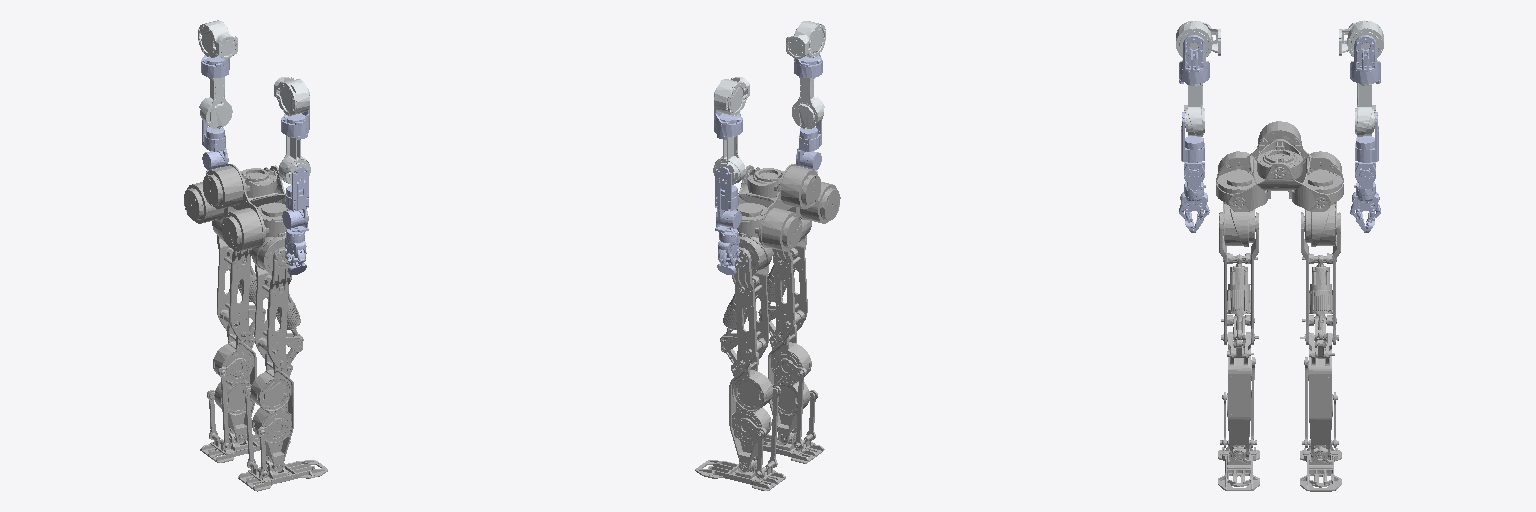
--- Render facts (derived) ---
3 views of the same robot in one strip: view 1: azimuth 30°, elevation 25°; view 2: azimuth 150°, elevation 25°; view 3: azimuth 270°, elevation 25° (orthographic).
Model jingchu01 with 27 links and 26 joints (12 revolute, 14 fixed), rooted at base_link, posed all joints at 0.
Links seen in each view (by area): view 1: base_link, right_knee_pitch, right_hip_pitch, left_knee_pitch, left_hip_pitch, right_ankle_roll, left_shoulder_pitch, left_shoulder_yaw, right_shoulder_pitch, right_wrist_pitch, waist_roll, left_ankle_roll (+7 smaller); view 2: base_link, left_knee_pitch, left_hip_pitch, right_knee_pitch, right_hip_pitch, left_ankle_roll, right_shoulder_pitch, right_shoulder_yaw, left_shoulder_pitch, left_wrist_pitch, right_ankle_roll, waist_roll (+7 smaller); view 3: base_link, right_hip_pitch, left_hip_pitch, right_knee_pitch, left_knee_pitch, left_ankle_roll, right_ankle_roll, waist_roll, right_wrist_pitch, left_wrist_pitch, left_shoulder_roll, right_shoulder_roll (+10 smaller).
Link boxes in pixels (<box>): base_link: <box>184,164,285,251</box>; right_knee_pitch: <box>243,351,293,477</box>; right_hip_pitch: <box>254,247,303,368</box>; left_knee_pitch: <box>207,324,256,449</box>; left_hip_pitch: <box>217,235,265,340</box>; right_ankle_roll: <box>238,460,327,491</box>; left_shoulder_pitch: <box>198,20,237,58</box>; left_shoulder_yaw: <box>199,77,232,128</box>; right_shoulder_pitch: <box>274,77,309,115</box>; right_wrist_pitch: <box>285,224,308,274</box>; waist_roll: <box>240,167,277,197</box>; left_ankle_roll: <box>200,432,290,462</box>; base_link: <box>738,164,840,251</box>; left_knee_pitch: <box>729,352,780,477</box>; left_hip_pitch: <box>720,247,768,368</box>; right_knee_pitch: <box>768,324,817,449</box>; right_hip_pitch: <box>758,235,807,340</box>; left_ankle_roll: <box>695,460,785,490</box>; right_shoulder_pitch: <box>786,21,825,58</box>; right_shoulder_yaw: <box>792,77,824,128</box>; left_shoulder_pitch: <box>714,77,749,115</box>; left_wrist_pitch: <box>715,224,739,274</box>; right_ankle_roll: <box>763,433,824,463</box>; waist_roll: <box>746,167,783,197</box>; base_link: <box>1216,121,1343,211</box>; right_hip_pitch: <box>1219,212,1258,357</box>; left_hip_pitch: <box>1300,212,1340,358</box>; right_knee_pitch: <box>1220,332,1256,456</box>; left_knee_pitch: <box>1302,332,1338,457</box>; left_ankle_roll: <box>1300,440,1341,491</box>; right_ankle_roll: <box>1218,440,1259,490</box>; waist_roll: <box>1257,139,1302,178</box>; right_wrist_pitch: <box>1179,170,1209,232</box>; left_wrist_pitch: <box>1350,170,1380,232</box>; left_shoulder_roll: <box>1350,35,1380,83</box>; right_shoulder_roll: <box>1179,35,1209,83</box>.
Bounding box of the posed robot: 0.3317 × 0.5974 × 1.4 m (x, y, z).
26 mesh visuals loaded from 27 distinct referenced files (26 binary STL); not drawn: 1 (reference not matched to a file when rendering).

robot.urdf — jingchu01:
<?xml version="1.0" encoding="utf-8"?>
<!-- This URDF was automatically created by SolidWorks to URDF Exporter! Originally created by Stephen Brawner ([email redacted]) 
     Commit Version: 1.6.0-4-g7f85cfe  Build Version: 1.6.7995.38578
     For more information, please see http://wiki.ros.org/sw_urdf_exporter -->
<robot
  name="jingchu01">
  <mujoco>
    <compiler meshdir="meshes/" balanceinertia="true" discardvisual="false"/>
  </mujoco>
  <link
    name="base_link">
    <inertial>
      <origin
        xyz="-0.0984969715325963 -2.9576188750624E-08 0.0140230360249803"
        rpy="0 0 0" />
      <mass
        value="7.88191586412788" />
      <inertia
        ixx="0.0194788489379514"
        ixy="-4.02416490936158E-09"
        ixz="-3.34829415460894E-06"
        iyy="0.0116319004122176"
        iyz="2.55580944381577E-10"
        izz="0.0156518074992374" />
    </inertial>
    <visual>
      <origin
        xyz="0 0 0"
        rpy="0 0 0" />
      <geometry>
        <mesh
          filename="./meshes/Robotbase.STL" />
      </geometry>
      <material
        name="">
        <color
          rgba="0.752941176470588 0.752941176470588 0.752941176470588 1" />
      </material>
    </visual>
    <!-- <collision>
      <origin
        xyz="0 0 0"
        rpy="0 0 0" />
      <geometry>
        <mesh
          filename="./meshes/Robotbase.STL" />
      </geometry>
    </collision> -->
  </link>
  <link
    name="waist_roll">
    <inertial>
      <origin
        xyz="0.0712014337202185 -1.45146336062042E-07 -0.0107254268410619"
        rpy="0 0 0" />
      <mass
        value="1.95282474899867" />
      <inertia
        ixx="0.00218526351876085"
        ixy="-4.4469211662733E-07"
        ixz="9.46871303766506E-06"
        iyy="0.00244407618829209"
        iyz="-6.45814658239216E-10"
        izz="0.00379853244537377" />
    </inertial>
    <visual>
      <origin
        xyz="0 0 0"
        rpy="0 0 0" />
      <geometry>
        <mesh
          filename="./meshes/waist_roll.STL" />
      </geometry>
      <material
        name="">
        <color
          rgba="0.752941176470588 0.752941176470588 0.752941176470588 1" />
      </material>
    </visual>
    <collision>
      <origin
        xyz="0 0 0"
        rpy="0 0 0" />
      <geometry>
        <mesh
          filename="./meshes/waist_roll.STL" />
      </geometry>
    </collision>
  </link>
  <joint
    name="waist_roll"
    type="fixed">
    <origin
      xyz="-0.07425 0 0.078"
      rpy="0 0 0" />
    <parent
      link="base_link" />
    <child
      link="waist_roll" />
    <axis
      xyz="1 0 0" />
    <limit
      lower="-0.2617"
      upper="0.2617"
      effort="0"
      velocity="0" />
  </joint>
  <link
    name="waist_yaw">
    <inertial>
      <origin
        xyz="0.00718128420277379 -0.00322497286969962 0.294197512955324"
        rpy="0 0 0" />
      <mass
        value="9.7945599041551" />
      <inertia
        ixx="0.0522872016315136"
        ixy="-1.35444239247012E-05"
        ixz="-0.000360835103735854"
        iyy="0.0374676610303776"
        iyz="-1.69963653418724E-05"
        izz="0.0344260546372227" />
    </inertial>
    <visual>
      <origin
        xyz="0 0 0"
        rpy="0 0 0" />
      <geometry>
        <mesh
          filename="./meshes/waist_yaw.STL" />
      </geometry>
      <material
        name="">
        <color
          rgba="0.752941176470588 0.752941176470588 0.752941176470588 1" />
      </material>
    </visual>
    <collision>
      <origin
        xyz="0 0 0"
        rpy="0 0 0" />
      <geometry>
        <mesh
          filename="./meshes/waist_yaw.STL" />
      </geometry>
    </collision>
  </link>
  <joint
    name="waist_yaw"
    type="fixed">
    <origin
      xyz="0.076 0 0.021"
      rpy="0 0 0" />
    <parent
      link="waist_roll" />
    <child
      link="waist_yaw" />
    <axis
      xyz="0 0 1" />
    <limit
      lower="-0.7853"
      upper="0.7853"
      effort="0"
      velocity="0" />
  </joint>
  <link
    name="right_shoulder_pitch">
    <inertial>
      <origin
        xyz="-0.00369025207869914 -6.78649189696512E-05 0.120120004930154"
        rpy="0 0 0" />
      <mass
        value="1.01928615599063" />
      <inertia
        ixx="0.00148442521595698"
        ixy="1.65913414959557E-10"
        ixz="-6.87910588235173E-05"
        iyy="0.00104142953909279"
        iyz="-1.06369827449295E-05"
        izz="0.000927756963869135" />
    </inertial>
    <visual>
      <origin
        xyz="0 0 0"
        rpy="0 0 0" />
      <geometry>
        <mesh
          filename="./meshes/right_shoulder_pitch.STL" />
      </geometry>
      <material
        name="">
        <color
          rgba="0.898039215686275 0.917647058823529 0.929411764705882 1" />
      </material>
    </visual>
    <collision>
      <origin
        xyz="0 0 0"
        rpy="0 0 0" />
      <geometry>
        <mesh
          filename="./meshes/right_shoulder_pitch.STL" />
      </geometry>
    </collision>
  </link>
  <joint
    name="right_shoulder_pitch"
    type="fixed">
    <origin
      xyz="0 -0.118 0.359"
      rpy="1.5708 0 0" />
    <parent
      link="waist_yaw" />
    <child
      link="right_shoulder_pitch" />
    <axis
      xyz="0 0 1" />
    <limit
      lower="-1.0471"
      upper="3.1415"
      effort="0"
      velocity="0" />
  </joint>
  <link
    name="right_shoulder_roll">
    <inertial>
      <origin
        xyz="0.0825127696717173 0.000439737221782754 -0.00457449779979625"
        rpy="0 0 0" />
      <mass
        value="0.371905453278243" />
      <inertia
        ixx="0.000303334452335149"
        ixy="-9.4354446936186E-09"
        ixz="5.26913409672362E-06"
        iyy="0.000271169450258462"
        iyz="6.56089161430563E-10"
        izz="0.000295200907506654" />
    </inertial>
    <visual>
      <origin
        xyz="0 0 0"
        rpy="0 0 0" />
      <geometry>
        <mesh
          filename="./meshes/right_shoulder_roll.STL" />
      </geometry>
      <material
        name="">
        <color
          rgba="0.792156862745098 0.819607843137255 0.933333333333333 1" />
      </material>
    </visual>
    <collision>
      <origin
        xyz="0 0 0"
        rpy="0 0 0" />
      <geometry>
        <mesh
          filename="./meshes/right_shoulder_roll.STL" />
      </geometry>
    </collision>
  </link>
  <joint
    name="right_shoulder_roll"
    type="fixed">
    <origin
      xyz="0 0 0.128"
      rpy="1.5708 0 -1.5708" />
    <parent
      link="right_shoulder_pitch" />
    <child
      link="right_shoulder_roll" />
    <axis
      xyz="0 0 1" />
    <limit
      lower="-0.0872"
      upper="2.2689"
      effort="0"
      velocity="0" />
  </joint>
  <link
    name="right_shoulder_yaw">
    <inertial>
      <origin
        xyz="0.00461112841503625 -0.000237834588530952 0.133281247788491"
        rpy="0 0 0" />
      <mass
        value="0.524817587410355" />
      <inertia
        ixx="0.00088773648735725"
        ixy="-7.76275772301874E-09"
        ixz="3.80368656328553E-05"
        iyy="0.000765712293685122"
        iyz="-1.91318600318233E-07"
        izz="0.000338394376834781" />
    </inertial>
    <visual>
      <origin
        xyz="0 0 0"
        rpy="0 0 0" />
      <geometry>
        <mesh
          filename="./meshes/right_shoulder_yaw.STL" />
      </geometry>
      <material
        name="">
        <color
          rgba="0.898039215686275 0.917647058823529 0.929411764705882 1" />
      </material>
    </visual>
    <collision>
      <origin
        xyz="0 0 0"
        rpy="0 0 0" />
      <geometry>
        <mesh
          filename="./meshes/right_shoulder_yaw.STL" />
      </geometry>
    </collision>
  </link>
  <joint
    name="right_shoulder_yaw"
    type="fixed">
    <origin
      xyz="0.09125 0 0"
      rpy="-1.5708 0 -1.5708" />
    <parent
      link="right_shoulder_roll" />
    <child
      link="right_shoulder_yaw" />
    <axis
      xyz="0 0 1" />
    <limit
      lower="-2.0943"
      upper="2.0943"
      effort="0"
      velocity="0" />
  </joint>
  <link
    name="right_elbow_pitch">
    <inertial>
      <origin
        xyz="1.23425907018748E-05 0.0624745480221272 0.0126972705460356"
        rpy="0 0 0" />
      <mass
        value="0.360427198006159" />
      <inertia
        ixx="0.000312134960472167"
        ixy="6.90445652551968E-08"
        ixz="-2.10439420915812E-08"
        iyy="0.000169273273086857"
        iyz="1.39197506100245E-06"
        izz="0.000349589920509742" />
    </inertial>
    <visual>
      <origin
        xyz="0 0 0"
        rpy="0 0 0" />
      <geometry>
        <mesh
          filename="./meshes/right_elbow_pitch.STL" />
      </geometry>
      <material
        name="">
        <color
          rgba="0.792156862745098 0.819607843137255 0.933333333333333 1" />
      </material>
    </visual>
    <collision>
      <origin
        xyz="0 0 0"
        rpy="0 0 0" />
      <geometry>
        <mesh
          filename="./meshes/right_elbow_pitch.STL" />
      </geometry>
    </collision>
  </link>
  <joint
    name="right_elbow_pitch"
    type="fixed">
    <origin
      xyz="0 0 0.17223"
      rpy="1.5708 0 -1.5708" />
    <parent
      link="right_shoulder_yaw" />
    <child
      link="right_elbow_pitch" />
    <axis
      xyz="0 0 1" />
    <limit
      lower="0"
      upper="1.8325"
      effort="0"
      velocity="0" />
  </joint>
  <link
    name="right_elbow_yaw">
    <inertial>
      <origin
        xyz="-0.000811085697537822 6.34590451825678E-07 0.0561277674791029"
        rpy="0 0 0" />
      <mass
        value="0.161610535897621" />
      <inertia
        ixx="6.83098705797326E-05"
        ixy="3.15556212054079E-10"
        ixz="-2.90366207769531E-06"
        iyy="7.63080818313032E-05"
        iyz="6.74067897348818E-08"
        izz="7.58173073592417E-05" />
    </inertial>
    <visual>
      <origin
        xyz="0 0 0"
        rpy="0 0 0" />
      <geometry>
        <mesh
          filename="./meshes/right_elbow_yaw.STL" />
      </geometry>
      <material
        name="">
        <color
          rgba="0.792156862745098 0.819607843137255 0.933333333333333 1" />
      </material>
    </visual>
    <collision>
      <origin
        xyz="0 0 0"
        rpy="0 0 0" />
      <geometry>
        <mesh
          filename="./meshes/right_elbow_yaw.STL" />
      </geometry>
    </collision>
  </link>
  <joint
    name="right_elbow_yaw"
    type="fixed">
    <origin
      xyz="0 0.08725 0"
      rpy="-1.5708 0 0" />
    <parent
      link="right_elbow_pitch" />
    <child
      link="right_elbow_yaw" />
    <axis
      xyz="0 0 -1" />
    <limit
      lower="-2.0943"
      upper="2.0943"
      effort="0"
      velocity="0" />
  </joint>
  <link
    name="right_wrist_pitch">
    <inertial>
      <origin
        xyz="0.000478731716934494 0.0308404012135164 -0.00843681859257581"
        rpy="0 0 0" />
      <mass
        value="0.0450604333779806" />
      <inertia
        ixx="1.88692435666102E-05"
        ixy="-1.90662483898709E-07"
        ixz="-2.56488829952119E-08"
        iyy="2.68897028626312E-05"
        iyz="1.88051327312878E-06"
        izz="2.06361301057188E-05" />
    </inertial>
    <visual>
      <origin
        xyz="0 0 0"
        rpy="0 0 0" />
      <geometry>
        <mesh
          filename="./meshes/right_wrist_pitch.STL" />
      </geometry>
      <material
        name="">
        <color
          rgba="0.792156862745098 0.819607843137255 0.933333333333333 1" />
      </material>
    </visual>
    <collision>
      <origin
        xyz="0 0 0"
        rpy="0 0 0" />
      <geometry>
        <mesh
          filename="./meshes/right_wrist_pitch.STL" />
      </geometry>
    </collision>
  </link>
  <joint
    name="right_wrist_pitch"
    type="fixed">
    <origin
      xyz="0 0 0.07275"
      rpy="1.5708 0 1.5708" />
    <parent
      link="right_elbow_yaw" />
    <child
      link="right_wrist_pitch" />
    <axis
      xyz="0 0 1" />
    <limit
      lower="-0.7853"
      upper="0.7853"
      effort="0"
      velocity="0" />
  </joint>
  <link
    name="left_shoulder_pitch">
    <inertial>
      <origin
        xyz="-0.00369025207868222 4.77978162738979E-05 -0.120107914107829"
        rpy="0 0 0" />
      <mass
        value="1.01928615599063" />
      <inertia
        ixx="0.00148442521595697"
        ixy="-1.65200468652265E-10"
        ixz="6.87910583939422E-05"
        iyy="0.00102301678503761"
        iyz="-9.04207997151844E-07"
        izz="0.000946169717924307" />
    </inertial>
    <visual>
      <origin
        xyz="0 0 0"
        rpy="0 0 0" />
      <geometry>
        <mesh
          filename="./meshes/left_shoulder_pitch.STL" />
      </geometry>
      <material
        name="">
        <color
          rgba="0.898039215686275 0.917647058823529 0.929411764705882 1" />
      </material>
    </visual>
    <collision>
      <origin
        xyz="0 0 0"
        rpy="0 0 0" />
      <geometry>
        <mesh
          filename="./meshes/left_shoulder_pitch.STL" />
      </geometry>
    </collision>
  </link>
  <joint
    name="left_shoulder_pitch"
    type="fixed">
    <origin
      xyz="0 0.118 0.359"
      rpy="1.5708 0 0" />
    <parent
      link="waist_yaw" />
    <child
      link="left_shoulder_pitch" />
    <axis
      xyz="0 0 1" />
    <limit
      lower="-1.0471"
      upper="3.1415"
      effort="0"
      velocity="0" />
  </joint>
  <link
    name="left_shoulder_roll">
    <inertial>
      <origin
        xyz="0.082505515385362 0.000432887271886839 0.00457532120404451"
        rpy="0 0 0" />
      <mass
        value="0.371905453278243" />
      <inertia
        ixx="0.000303334452335149"
        ixy="-9.4354446936186E-09"
        ixz="5.26913409672362E-06"
        iyy="0.000271169450258462"
        iyz="6.56089161430563E-10"
        izz="0.000295200907506654" />
    </inertial>
    <visual>
      <origin
        xyz="0 0 0"
        rpy="0 0 0" />
      <geometry>
        <mesh
          filename="./meshes/left_shoulder_roll.STL" />
      </geometry>
      <material
        name="">
        <color
          rgba="0.792156862745098 0.819607843137255 0.933333333333333 1" />
      </material>
    </visual>
    <collision>
      <origin
        xyz="0 0 0"
        rpy="0 0 0" />
      <geometry>
        <mesh
          filename="./meshes/left_shoulder_roll.STL" />
      </geometry>
    </collision>
  </link>
  <joint
    name="left_shoulder_roll"
    type="fixed">
    <origin
      xyz="0 0 -0.128"
      rpy="-1.5708 0 -1.5708" />
    <parent
      link="left_shoulder_pitch" />
    <child
      link="left_shoulder_roll" />
    <axis
      xyz="0 0 1" />
    <limit
      lower="-0.087266"
      upper="2.3562"
      effort="0"
      velocity="0" />
  </joint>
  <link
    name="left_shoulder_yaw">
    <inertial>
      <origin
        xyz="-0.00461112841500924 0.00023729156391851 -0.133281247788492"
        rpy="0 0 0" />
      <mass
        value="0.524817587410352" />
      <inertia
        ixx="0.000887736487357246"
        ixy="-1.08468350171437E-08"
        ixz="3.80368656328551E-05"
        iyy="0.000765712293685123"
        iyz="-1.98140879438677E-07"
        izz="0.000338394376834773" />
    </inertial>
    <visual>
      <origin
        xyz="0 0 0"
        rpy="0 0 0" />
      <geometry>
        <mesh
          filename="./meshes/left_shoulder_yaw.STL" />
      </geometry>
      <material
        name="">
        <color
          rgba="0.898039215686275 0.917647058823529 0.929411764705882 1" />
      </material>
    </visual>
    <collision>
      <origin
        xyz="0 0 0"
        rpy="0 0 0" />
      <geometry>
        <mesh
          filename="./meshes/left_shoulder_yaw.STL" />
      </geometry>
    </collision>
  </link>
  <joint
    name="left_shoulder_yaw"
    type="fixed">
    <origin
      xyz="0.09125 0 0"
      rpy="-1.5708 0 1.5708" />
    <parent
      link="left_shoulder_roll" />
    <child
      link="left_shoulder_yaw" />
    <axis
      xyz="0 0 1" />
    <limit
      lower="-2.0943"
      upper="2.0943"
      effort="0"
      velocity="0" />
  </joint>
  <link
    name="left_elbow_pitch">
    <inertial>
      <origin
        xyz="1.23425687506701E-05 0.0759501782289966 -0.0126972701922965"
        rpy="0 0 0" />
      <mass
        value="0.360427202090469" />
      <inertia
        ixx="0.0003121349629981"
        ixy="6.90442699770628E-08"
        ixz="2.1043919679011E-08"
        iyy="0.00016927327587052"
        iyz="-1.39197577008188E-06"
        izz="0.000349589921196914" />
    </inertial>
    <visual>
      <origin
        xyz="0 0 0"
        rpy="0 0 0" />
      <geometry>
        <mesh
          filename="./meshes/left_elbow_pitch.STL" />
      </geometry>
      <material
        name="">
        <color
          rgba="0.792156862745098 0.819607843137255 0.933333333333333 1" />
      </material>
    </visual>
    <collision>
      <origin
        xyz="0 0 0"
        rpy="0 0 0" />
      <geometry>
        <mesh
          filename="./meshes/left_elbow_pitch.STL" />
      </geometry>
    </collision>
  </link>
  <joint
    name="left_elbow_pitch"
    type="fixed">
    <origin
      xyz="0 0 -0.15875"
      rpy="-1.5708 0 1.5708" />
    <parent
      link="left_shoulder_yaw" />
    <child
      link="left_elbow_pitch" />
    <axis
      xyz="0 0 1" />
    <limit
      lower="0"
      upper="1.8325"
      effort="0"
      velocity="0" />
  </joint>
  <link
    name="left_elbow_yaw">
    <inertial>
      <origin
        xyz="0.000811085697531105 6.34590452575079E-07 -0.0696033974783333"
        rpy="0 0 0" />
      <mass
        value="0.16161053589762" />
      <inertia
        ixx="6.83098705797325E-05"
        ixy="-3.15556212097006E-10"
        ixz="-2.90366207769528E-06"
        iyy="7.62733148981024E-05"
        iyz="-5.85765644490599E-08"
        izz="7.58520742924423E-05" />
    </inertial>
    <visual>
      <origin
        xyz="0 0 0"
        rpy="0 0 0" />
      <geometry>
        <mesh
          filename="./meshes/left_elbow_yaw.STL" />
      </geometry>
      <material
        name="">
        <color
          rgba="0.792156862745098 0.819607843137255 0.933333333333333 1" />
      </material>
    </visual>
    <collision>
      <origin
        xyz="0 0 0"
        rpy="0 0 0" />
      <geometry>
        <mesh
          filename="./meshes/left_elbow_yaw.STL" />
      </geometry>
    </collision>
  </link>
  <joint
    name="left_elbow_yaw"
    type="fixed">
    <origin
      xyz="0 0.08725 0"
      rpy="-1.5708 0 3.1416" />
    <parent
      link="left_elbow_pitch" />
    <child
      link="left_elbow_yaw" />
    <axis
      xyz="0 0 -1" />
    <limit
      lower="-2.0943"
      upper="2.0943"
      effort="0"
      velocity="0" />
  </joint>
  <link
    name="left_wrist_pitch">
    <inertial>
      <origin
        xyz="-0.000478692795686964 -0.0443160309930142 0.0093651458808677"
        rpy="0 0 0" />
      <mass
        value="0.0450604313696934" />
      <inertia
        ixx="1.88692432103982E-05"
        ixy="-1.90662471507047E-07"
        ixz="2.5648318268331E-08"
        iyy="2.68897015884294E-05"
        iyz="2.19926683598632E-06"
        izz="2.06361291243468E-05" />
    </inertial>
    <visual>
      <origin
        xyz="0 0 0"
        rpy="0 0 0" />
      <geometry>
        <mesh
          filename="./meshes/left_wrist_pitch.STL" />
      </geometry>
      <material
        name="">
        <color
          rgba="0.792156862745098 0.819607843137255 0.933333333333333 1" />
      </material>
    </visual>
    <collision>
      <origin
        xyz="0 0 0"
        rpy="0 0 0" />
      <geometry>
        <mesh
          filename="./meshes/left_wrist_pitch.STL" />
      </geometry>
    </collision>
  </link>
  <joint
    name="left_wrist_pitch"
    type="fixed">
    <origin
      xyz="0 0 -0.07275"
      rpy="1.5708 0 1.5708" />
    <parent
      link="left_elbow_yaw" />
    <child
      link="left_wrist_pitch" />
    <axis
      xyz="0 0 1" />
    <limit
      lower="-0.7853"
      upper="0.7853"
      effort="0"
      velocity="0" />
  </joint>
  <link
    name="right_hip_roll">
    <inertial>
      <origin
        xyz="0.0712014337220351 1.45148064456535E-07 0.0107254268413401"
        rpy="0 0 0" />
      <mass
        value="1.95282474889206" />
      <inertia
        ixx="0.00216541687872278"
        ixy="6.33916012368307E-09"
        ixz="-9.46871301935334E-06"
        iyy="0.00246392282814418"
        iyz="-6.45789069561761E-10"
        izz="0.00379853244519851" />
    </inertial>
    <visual>
      <origin
        xyz="0 0 0"
        rpy="0 0 0" />
      <geometry>
        <mesh
          filename="./meshes/right_hip_roll.STL" />
      </geometry>
      <material
        name="">
        <color
          rgba="0.752941176470588 0.752941176470588 0.752941176470588 1" />
      </material>
    </visual>
    <!-- <collision>
      <origin
        xyz="0 0 0"
        rpy="0 0 0" />
      <geometry>
        <mesh
          filename="./meshes/right_hip_roll.STL" />
      </geometry>
    </collision> -->
  </link>
  <joint
    name="right_hip_roll"
    type="revolute">
    <origin
      xyz="-0.07425 -0.117 -0.018"
      rpy="0 0 0" />
    <parent
      link="base_link" />
    <child
      link="right_hip_roll" />
    <axis
      xyz="-1 0 0" />
    <limit
      lower="-0.1396"
      upper="0.5236"
      effort="163.000"
      velocity="2.094" />
  </joint>
  <link
    name="right_hip_yaw">
    <inertial>
      <origin
        xyz="2.75481248193377E-05 0.000199330036069326 -0.0731443197699774"
        rpy="0 0 0" />
      <mass
        value="2.83658349791389" />
      <inertia
        ixx="0.00409588740822197"
        ixy="3.89732799375747E-09"
        ixz="-2.53675834610563E-06"
        iyy="0.00536156764679461"
        iyz="-0.000177233604694398"
        izz="0.00400961240774363" />
    </inertial>
    <visual>
      <origin
        xyz="0 0 0"
        rpy="0 0 0" />
      <geometry>
        <mesh
          filename="./meshes/right_hip_yaw.STL" />
      </geometry>
      <material
        name="">
        <color
          rgba="0.752941176470588 0.752941176470588 0.752941176470588 1" />
      </material>
    </visual>
    <!-- <collision>
      <origin
        xyz="0 0 0"
        rpy="0 0 0" />
      <geometry>
        <mesh
          filename="./meshes/right_hip_yaw.STL" />
      </geometry>
    </collision> -->
  </link>
  <joint
    name="right_hip_yaw"
    type="revolute">
    <origin
      xyz="0.076 0 -0.021"
      rpy="0 0 0" />
    <parent
      link="right_hip_roll" />
    <child
      link="right_hip_yaw" />
    <axis
      xyz="0 0 -1" />
    <limit
      lower="-0.5236"
      upper="0.5236"
      effort="130.000"
      velocity="2.618" />
  </joint>
  <link
    name="right_hip_pitch">
    <inertial>
      <origin
        xyz="0.00278195376035333 -0.00118403417056541 -0.212138172821656"
        rpy="0 0 0" />
      <mass
        value="3.42" />
      <inertia
        ixx="0.0154641811614602"
        ixy="-2.39045191992138E-06"
        ixz="0.000439784914957712"
        iyy="0.0159626503674042"
        iyz="-5.07682984790193E-05"
        izz="0.00117120911610082" />
    </inertial>
    <visual>
      <origin
        xyz="0 0 0"
        rpy="0 0 0" />
      <geometry>
        <mesh
          filename="./meshes/right_hip_pitch.STL" />
      </geometry>
      <material
        name="">
        <color
          rgba="0.752941176470588 0.752941176470588 0.752941176470588 1" />
      </material>
    </visual>
    <!-- <collision>
      <origin
        xyz="0 0 0"
        rpy="0 0 0" />
      <geometry>
        <mesh
          filename="./meshes/right_hip_pitch.STL" />
      </geometry>
    </collision> -->
  </link>
  <joint
    name="right_hip_pitch"
    type="revolute">
    <origin
      xyz="0 0 -0.08"
      rpy="0 0 0" />
    <parent
      link="right_hip_yaw" />
    <child
      link="right_hip_pitch" />
    <axis
      xyz="0 1 0" />
    <limit
      lower="-1.2566"
      upper="0.7853"
      effort="484.23"
      velocity="3.926" />
  </joint>
  <link
    name="right_knee_pitch">
    <inertial>
      <origin
        xyz="-0.009706200766515 0.000919491155764007 -0.171876310013947"
        rpy="0 0 0" />
      <mass
        value="3.56253962428973" />
      <inertia
        ixx="0.017593251099724"
        ixy="3.37744035385105E-06"
        ixz="0.000385307008319767"
        iyy="0.0193804549962571"
        iyz="-6.45493181240959E-05"
        izz="0.00338833284159735" />
    </inertial>
    <visual>
      <origin
        xyz="0 0 0"
        rpy="0 0 0" />
      <geometry>
        <mesh
          filename="./meshes/right_knee_pitch.STL" />
      </geometry>
      <material
        name="">
        <color
          rgba="0.752941176470588 0.752941176470588 0.752941176470588 1" />
      </material>
    </visual>
    <!-- <collision>
      <origin
        xyz="0 0 0"
        rpy="0 0 0" />
      <geometry>
        <mesh
          filename="./meshes/right_knee_pitch.STL" />
      </geometry>
    </collision> -->
  </link>
  <joint
    name="right_knee_pitch"
    type="revolute">
    <origin
      xyz="0 0 -0.36"
      rpy="0 0 0" />
    <parent
      link="right_hip_pitch" />
    <child
      link="right_knee_pitch" />
    <axis
      xyz="0 1 0" />
    <limit
      lower="-0.0872"
      upper="1.7453"
      effort="306.000"
      velocity="2.770" />
  </joint>
  <link
    name="right_ankle_pitch">
    <inertial>
      <origin
        xyz="-4.42025816866642E-05 3.73697826849817E-09 1.56561735425997E-05"
        rpy="0 0 0" />
      <mass
        value="0.117245957669761" />
      <inertia
        ixx="9.36458797841644E-06"
        ixy="1.74312437397883E-12"
        ixz="-1.04884308878842E-08"
        iyy="9.34734845908157E-06"
        iyz="-1.87046785930341E-12"
        izz="1.20842260920027E-05" />
    </inertial>
    <visual>
      <origin
        xyz="0 0 0"
        rpy="0 0 0" />
      <geometry>
        <mesh
          filename="./meshes/right_ankle_pitch.STL" />
      </geometry>
      <material
        name="">
        <color
          rgba="0.752941176470588 0.752941176470588 0.752941176470588 1" />
      </material>
    </visual>
    <!-- <collision>
      <origin
        xyz="0 0 0"
        rpy="0 0 0" />
      <geometry>
        <mesh
          filename="./meshes/right_ankle_pitch.STL" />
      </geometry>
    </collision> -->
  </link>
  <joint
    name="right_ankle_pitch"
    type="revolute">
    <origin
      xyz="0 0 -0.36"
      rpy="0 0 0" />
    <parent
      link="right_knee_pitch" />
    <child
      link="right_ankle_pitch" />
    <axis
      xyz="0 1 0" />
    <limit
      lower="-0.7853"
      upper="0.5236"
      effort="509.163"
      velocity="3.124" />
  </joint>
  <link
    name="right_ankle_roll">
    <inertial>
      <origin
        xyz="0.0134435402512188 1.54639419934488E-06 -0.0362581446313182"
        rpy="0 0 0" />
      <mass
        value="0.681463007782071" />
      <inertia
        ixx="0.000606187263297722"
        ixy="6.84372557251069E-08"
        ixz="-1.44132496017251E-05"
        iyy="0.00287092092871027"
        iyz="-6.16904091807537E-10"
        izz="0.0033986962851404" />
    </inertial>
    <visual>
      <origin
        xyz="0 0 0"
        rpy="0 0 0" />
      <geometry>
        <mesh
          filename="./meshes/right_ankle_roll.STL" />
      </geometry>
      <material
        name="">
        <color
          rgba="0.752941176470588 0.752941176470588 0.752941176470588 1" />
      </material>
    </visual>
    <collision>
      <origin
        xyz="0 0 0"
        rpy="0 0 0" />
      <geometry>
        <mesh
          filename="./meshes/right_ankle_roll.STL" />
      </geometry>
    </collision>
  </link>
  <joint
    name="right_ankle_roll"
    type="revolute">
    <origin
      xyz="0 0 0"
      rpy="0 0 0" />
    <parent
      link="right_ankle_pitch" />
    <child
      link="right_ankle_roll" />
    <axis
      xyz="-1 0 0" />
    <limit
      lower="-0.2617"
      upper="0.2617"
      effort="314.930"
      velocity="4.160" />
  </joint>
  <link
    name="left_hip_roll">
    <inertial>
      <origin
        xyz="0.0712014337220351 1.45148064414902E-07 0.01072542684134"
        rpy="0 0 0" />
      <mass
        value="1.95282474889206" />
      <inertia
        ixx="0.00216541687872278"
        ixy="6.33916012666114E-09"
        ixz="-9.46871301928296E-06"
        iyy="0.00246392282814456"
        iyz="-6.45789068981143E-10"
        izz="0.00379853244519889" />
    </inertial>
    <visual>
      <origin
        xyz="0 0 0"
        rpy="0 0 0" />
      <geometry>
        <mesh
          filename="./meshes/left_hip_roll.STL" />
      </geometry>
      <material
        name="">
        <color
          rgba="0.752941176470588 0.752941176470588 0.752941176470588 1" />
      </material>
    </visual>
    <!-- <collision>
      <origin
        xyz="0 0 0"
        rpy="0 0 0" />
      <geometry>
        <mesh
          filename="./meshes/left_hip_roll.STL" />
      </geometry>
    </collision> -->
  </link>
  <joint
    name="left_hip_roll"
    type="revolute">
    <origin
      xyz="-0.07425 0.117 -0.018"
      rpy="0 0 0" />
    <parent
      link="base_link" />
    <child
      link="left_hip_roll" />
    <axis
      xyz="1 0 0" />
    <limit
      lower="-0.1396"
      upper="0.5236"
      effort="163.000"
      velocity="2.094" />
  </joint>
  <link
    name="left_hip_yaw">
    <inertial>
      <origin
        xyz="-2.44409013837599E-05 -0.00019933004116536 -0.0731443197699775"
        rpy="0 0 0" />
      <mass
        value="2.83658349791389" />
      <inertia
        ixx="0.00409588740822197"
        ixy="3.89732799311734E-09"
        ixz="2.49615107882358E-06"
        iyy="0.0053615676467946"
        iyz="0.000177233604760547"
        izz="0.00400961240774363" />
    </inertial>
    <visual>
      <origin
        xyz="0 0 0"
        rpy="0 0 0" />
      <geometry>
        <mesh
          filename="./meshes/left_hip_yaw.STL" />
      </geometry>
      <material
        name="">
        <color
          rgba="0.752941176470588 0.752941176470588 0.752941176470588 1" />
      </material>
    </visual>
    <!-- <collision>
      <origin
        xyz="0 0 0"
        rpy="0 0 0" />
      <geometry>
        <mesh
          filename="./meshes/left_hip_yaw.STL" />
      </geometry>
    </collision> -->
  </link>
  <joint
    name="left_hip_yaw"
    type="revolute">
    <origin
      xyz="0.076 0 -0.021"
      rpy="0 0 0" />
    <parent
      link="left_hip_roll" />
    <child
      link="left_hip_yaw" />
    <axis
      xyz="0 0 1" />
    <limit
      lower="-0.5236"
      upper="0.5236"
      effort="130.000"
      velocity="2.618" />
  </joint>
  <link
    name="left_hip_pitch">
    <inertial>
      <origin
        xyz="0.00381053628569823 0.00136240842842653 -0.212150920502361"
        rpy="0 0 0" />
      <mass
        value="3.42" />
      <inertia
        ixx="0.0154682947864348"
        ixy="2.14349855772827E-06"
        ixz="0.000369633081504545"
        iyy="0.0159626504014808"
        iyz="5.07795834441317E-05"
        izz="0.00116709552390611" />
    </inertial>
    <visual>
      <origin
        xyz="0 0 0"
        rpy="0 0 0" />
      <geometry>
        <mesh
          filename="./meshes/left_hip_pitch.STL" />
      </geometry>
      <material
        name="">
        <color
          rgba="0.752941176470588 0.752941176470588 0.752941176470588 1" />
      </material>
    </visual>
    <!-- <collision>
      <origin
        xyz="0 0 0"
        rpy="0 0 0" />
      <geometry>
        <mesh
          filename="./meshes/left_hip_pitch.STL" />
      </geometry>
    </collision> -->
  </link>
  <joint
    name="left_hip_pitch"
    type="revolute">
    <origin
      xyz="0 0 -0.08"
      rpy="0 0 0" />
    <parent
      link="left_hip_yaw" />
    <child
      link="left_hip_pitch" />
    <axis
      xyz="0 1 0" />
    <limit
      lower="-1.2566"
      upper="0.7853"
      effort="484.23"
      velocity="3.926" />
  </joint>
  <link
    name="left_knee_pitch">
    <inertial>
      <origin
        xyz="-0.00970618878840451 -0.00119292525006093 -0.171875683665013"
        rpy="0 0 0" />
      <mass
        value="3.56254067216515" />
      <inertia
        ixx="0.0175932579943534"
        ixy="-4.55897849310627E-06"
        ixz="0.000385283696875789"
        iyy="0.0193808141083225"
        iyz="8.71812788605299E-05"
        izz="0.00338798140463537" />
    </inertial>
    <visual>
      <origin
        xyz="0 0 0"
        rpy="0 0 0" />
      <geometry>
        <mesh
          filename="./meshes/left_knee_pitch.STL" />
      </geometry>
      <material
        name="">
        <color
          rgba="0.752941176470588 0.752941176470588 0.752941176470588 1" />
      </material>
    </visual>
    <!-- <collision>
      <origin
        xyz="0 0 0"
        rpy="0 0 0" />
      <geometry>
        <mesh
          filename="./meshes/left_knee_pitch.STL" />
      </geometry>
    </collision> -->
  </link>
  <joint
    name="left_knee_pitch"
    type="revolute">
    <origin
      xyz="0.0017547 0 -0.36"
      rpy="0 0 0" />
    <parent
      link="left_hip_pitch" />
    <child
      link="left_knee_pitch" />
    <axis
      xyz="0 1 0" />
    <limit
      lower="-0.0872"
      upper="1.7453"
      effort="306.000"
      velocity="2.770" />
  </joint>
  <link
    name="left_ankle_pitch">
    <inertial>
      <origin
        xyz="-4.4202632627513E-05 3.73697818523144E-09 1.56561732943539E-05"
        rpy="0 0 0" />
      <mass
        value="0.117245957669761" />
      <inertia
        ixx="9.36458797841644E-06"
        ixy="1.74312437310455E-12"
        ixz="-1.04884308878835E-08"
        iyy="9.34734845908156E-06"
        iyz="-1.87046786641449E-12"
        izz="1.20842260920027E-05" />
    </inertial>
    <visual>
      <origin
        xyz="0 0 0"
        rpy="0 0 0" />
      <geometry>
        <mesh
          filename="./meshes/left_ankle_pitch.STL" />
      </geometry>
      <material
        name="">
        <color
          rgba="0.752941176470588 0.752941176470588 0.752941176470588 1" />
      </material>
    </visual>
    <!-- <collision>
      <origin
        xyz="0 0 0"
        rpy="0 0 0" />
      <geometry>
        <mesh
          filename="./meshes/left_ankle_pitch.STL" />
      </geometry>
    </collision> -->
  </link>
  <joint
    name="left_ankle_pitch"
    type="revolute">
    <origin
      xyz="0 0 -0.36"
      rpy="0 0 0" />
    <parent
      link="left_knee_pitch" />
    <child
      link="left_ankle_pitch" />
    <axis
      xyz="0 1 0" />
    <limit
      lower="-0.7853"
      upper="0.5236"
      effort="509.163"
      velocity="3.124" />
  </joint>
  <link
    name="left_ankle_roll">
    <inertial>
      <origin
        xyz="0.0134435402025099 1.5463934322224E-06 -0.036258144632673"
        rpy="0 0 0" />
      <mass
        value="0.681463007758793" />
      <inertia
        ixx="0.000606187263282171"
        ixy="6.84372533199119E-08"
        ixz="-1.44132496035729E-05"
        iyy="0.00287092092870634"
        iyz="-6.16912260822063E-10"
        izz="0.00339869628512768" />
    </inertial>
    <visual>
      <origin
        xyz="0 0 0"
        rpy="0 0 0" />
      <geometry>
        <mesh
          filename="./meshes/left_ankle_roll.STL" />
      </geometry>
      <material
        name="">
        <color
          rgba="0.752941176470588 0.752941176470588 0.752941176470588 1" />
      </material>
    </visual>
    <collision>
      <origin
        xyz="0 0 0"
        rpy="0 0 0" />
      <geometry>
        <mesh
          filename="./meshes/left_ankle_roll.STL" />
      </geometry>
    </collision>
  </link>
  <joint
    name="left_ankle_roll"
    type="revolute">
    <origin
      xyz="0 0 0"
      rpy="0 0 0" />
    <parent
      link="left_ankle_pitch" />
    <child
      link="left_ankle_roll" />
    <axis
      xyz="1 0 0" />
    <limit
      lower="-0.2617"
      upper="0.2617"
      effort="314.930"
      velocity="4.160" />
  </joint>
</robot>
